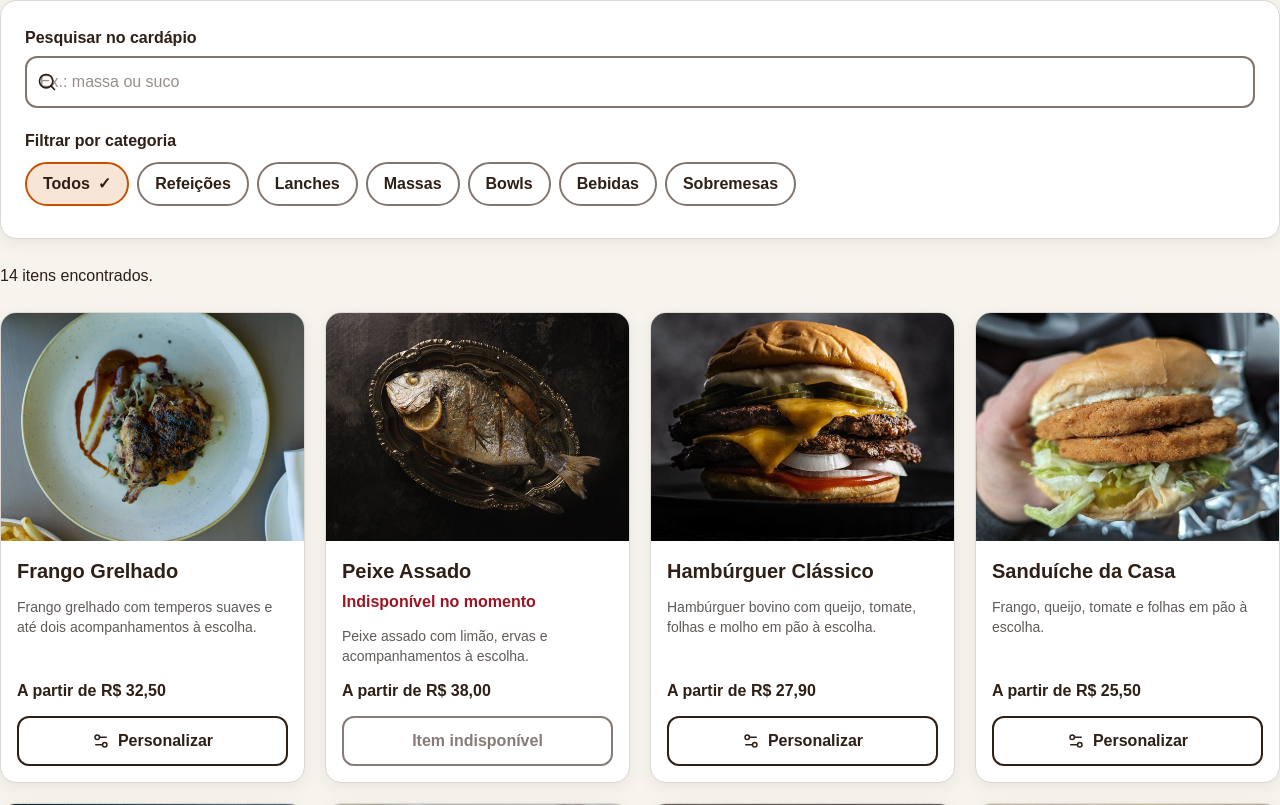
MenuBrowser › renderiza e filtra as categorias de bebidas e sobremesas
Check: the radio button labelled "Sobremesas" is shown, box x1=665 y1=162 x2=796 y2=206
Click the radio button labelled "Bebidas" at (608, 184), box x1=559 y1=162 x2=657 y2=206
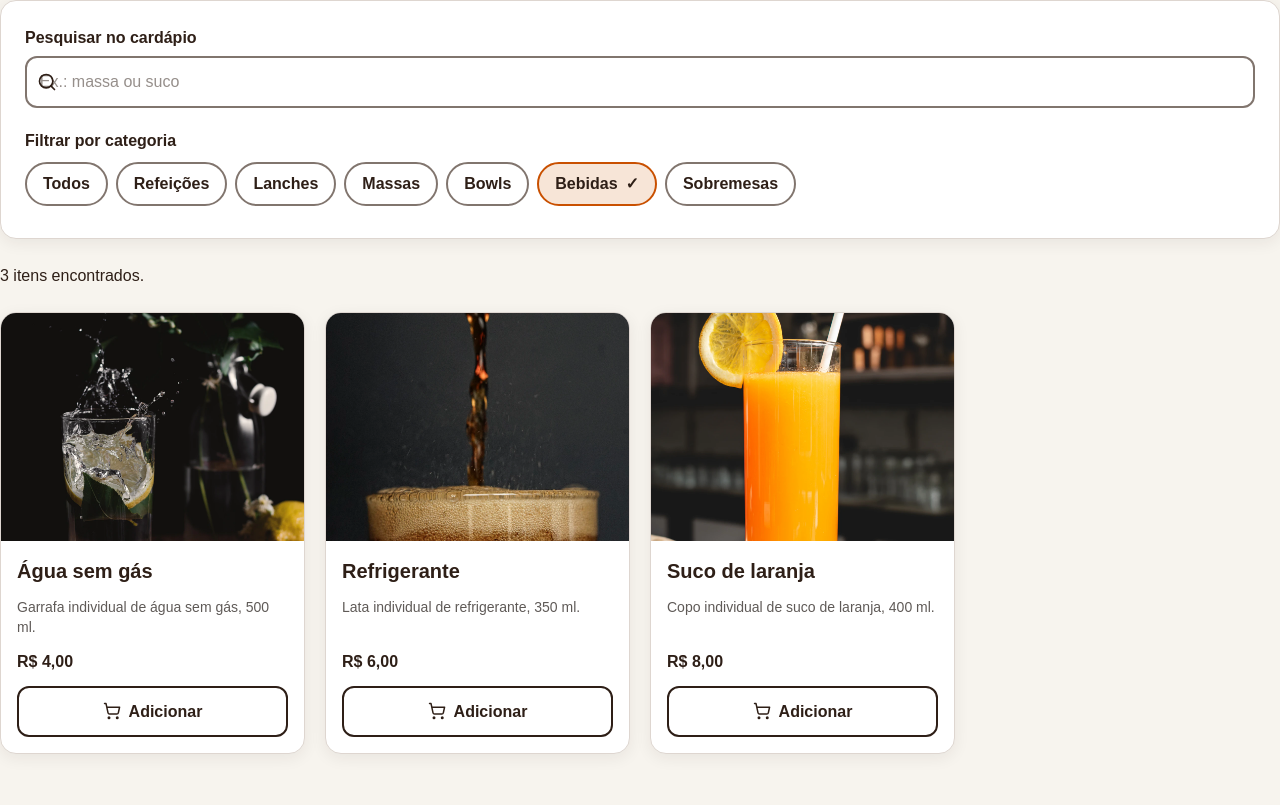
Check: the heading "Água sem gás" is shown, box x1=17 y1=560 x2=153 y2=582
Check: the heading "Brownie" is not shown
Click the radio button labelled "Sobremesas" at (730, 184), box x1=665 y1=162 x2=796 y2=206
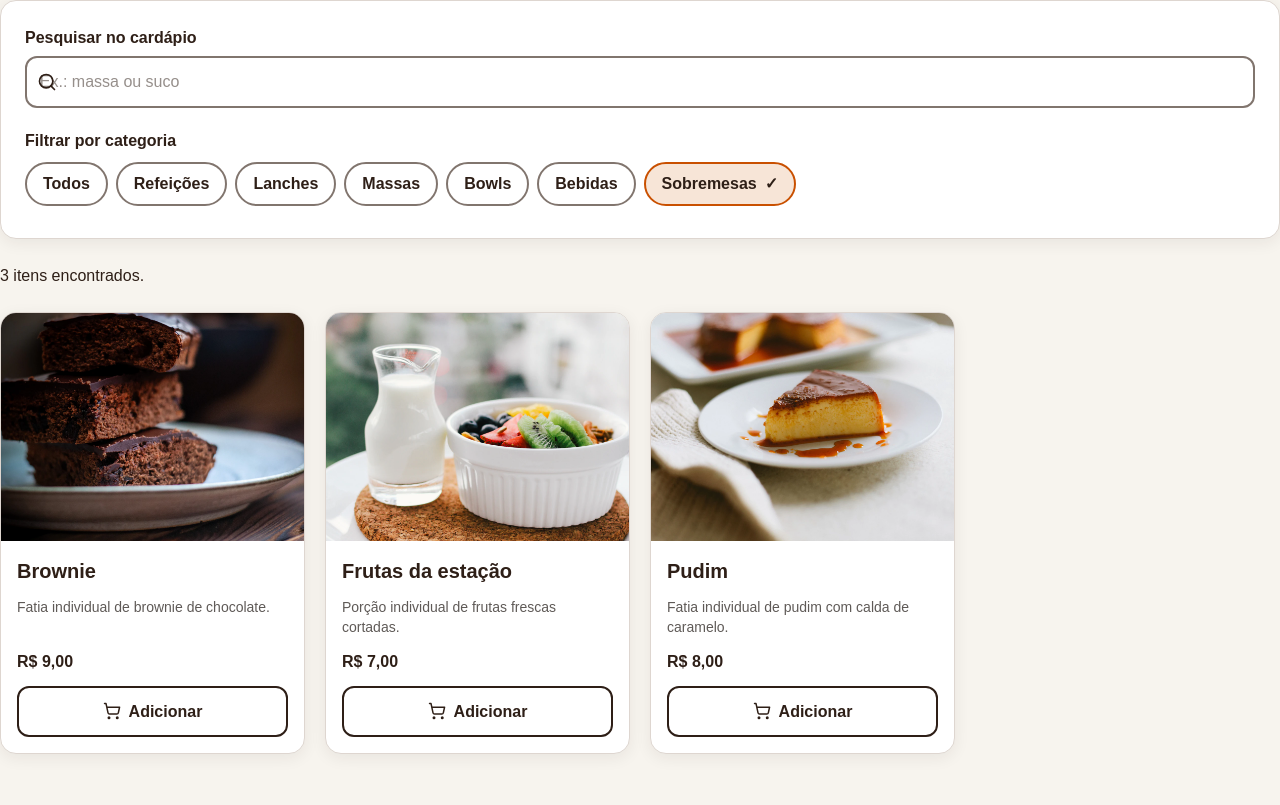
Check: the heading "Brownie" is shown, box x1=17 y1=560 x2=96 y2=582
Check: the heading "Água sem gás" is gone
